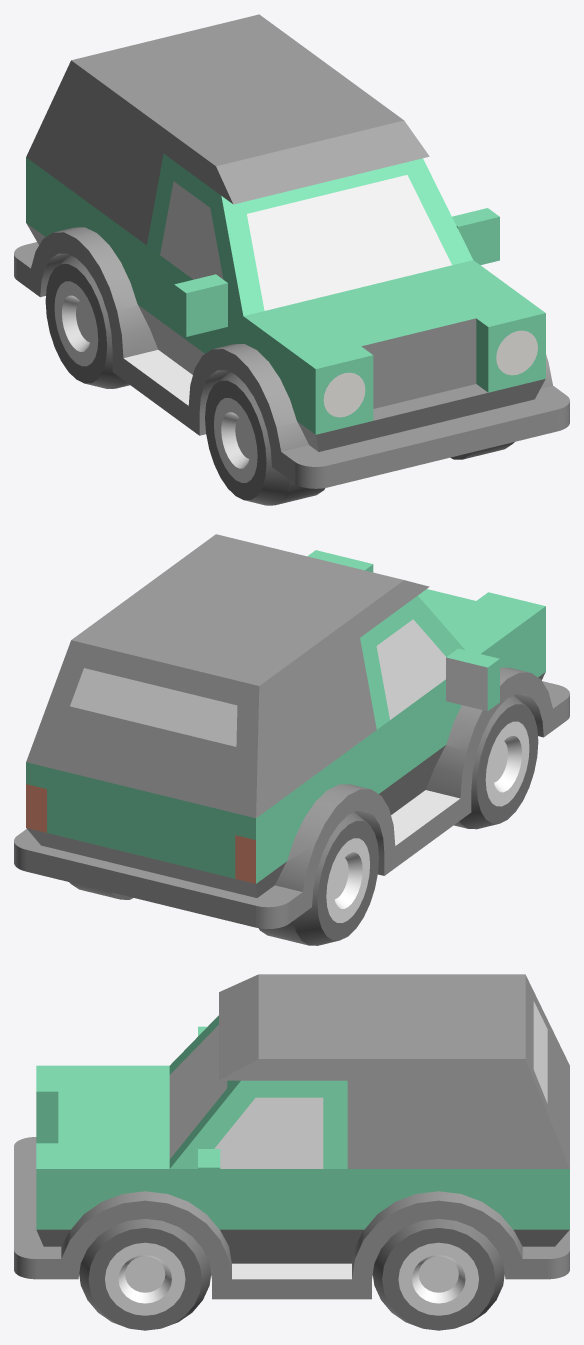
Rendered from suv.gltf.
The picture shows the model from 3 angles, top to bottom: view 1: azimuth 30°, elevation 25°; view 2: azimuth 150°, elevation 25°; view 3: azimuth 270°, elevation 25°; orthographic projection. The views are drawn at different scales.
Parts seen in each view (by area): view 1: body, wheel_frontRight, wheel_backRight; view 2: body, wheel_backRight, wheel_frontRight; view 3: body, wheel_backLeft, wheel_frontLeft.
Part boxes in pixels (box(x1,y1,x2,y2)): body: box(14, 14, 569, 488); wheel_frontRight: box(205, 372, 325, 505); wheel_backRight: box(45, 255, 129, 388); body: box(14, 534, 569, 928); wheel_backRight: box(259, 812, 378, 945); wheel_frontRight: box(454, 695, 538, 829); body: box(14, 974, 569, 1299); wheel_backLeft: box(372, 1219, 504, 1330); wheel_frontLeft: box(79, 1219, 211, 1330).
Bounding box in the file's own units: 1.12 × 0.975 × 1.88.
